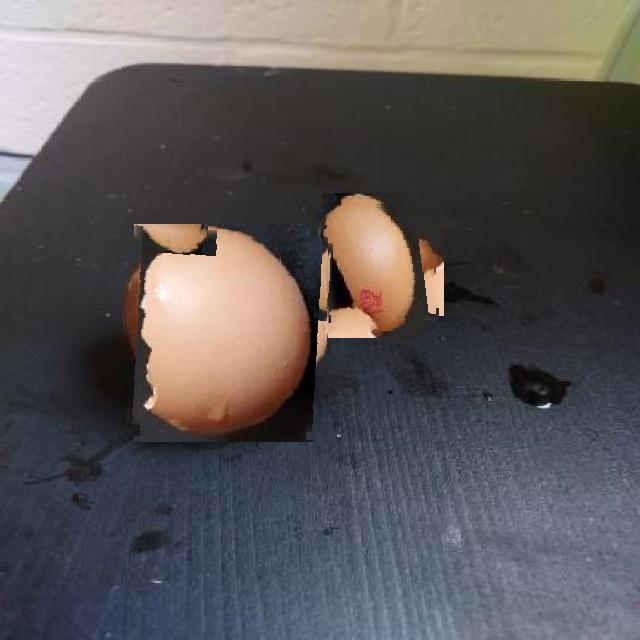biodegradable: (121, 229, 328, 436), (307, 201, 436, 331)
